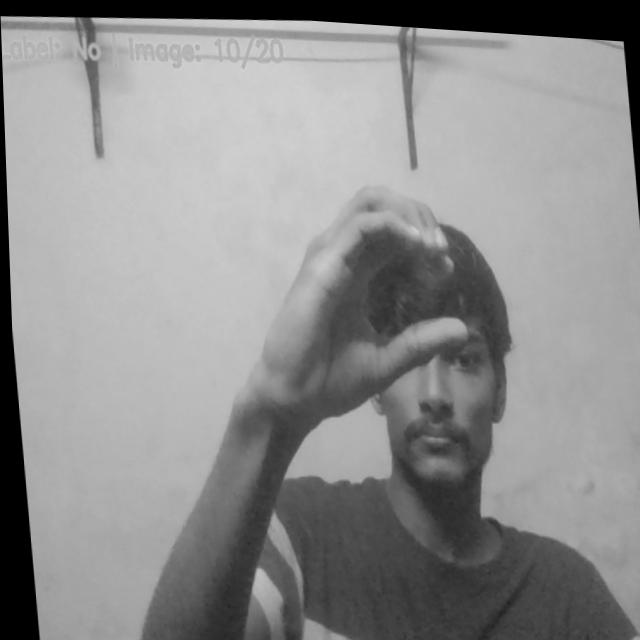No: (243, 164, 478, 434)
